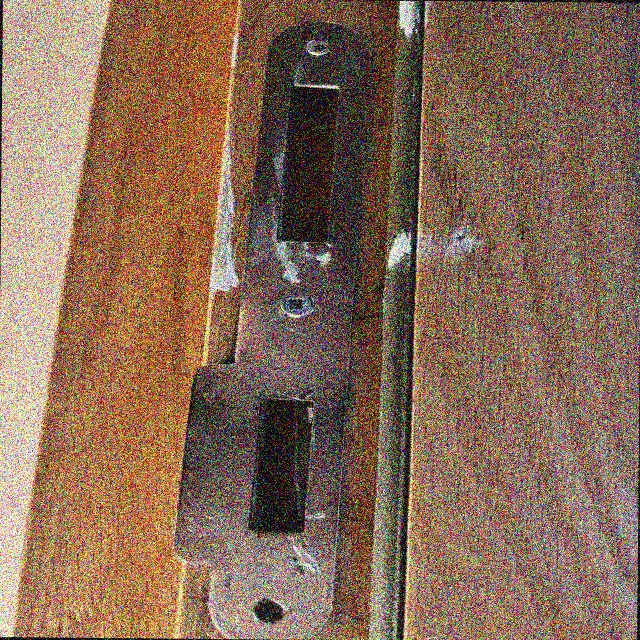pozidriv: (280, 293, 312, 316)
